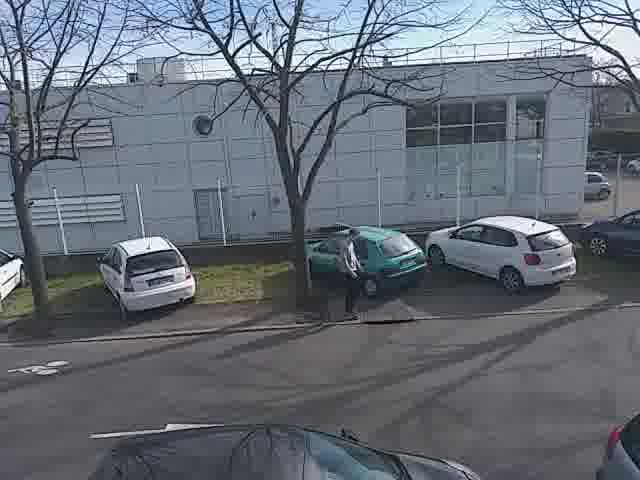persona: (330, 223, 375, 318)
